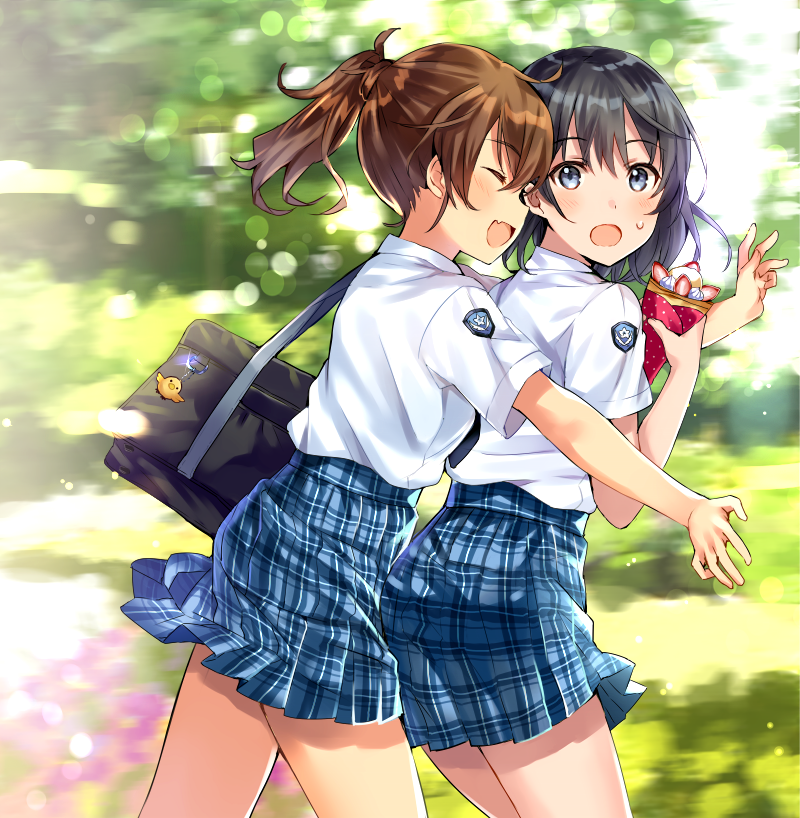纸片人正脸: (287, 35, 668, 266), (513, 37, 699, 263)
